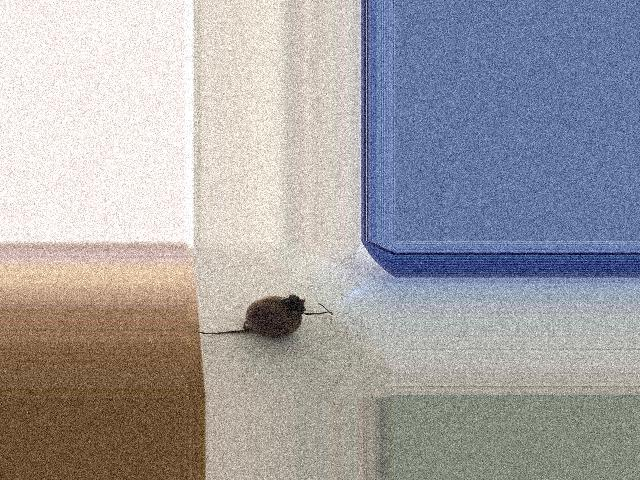beet: (194, 295, 332, 337)
